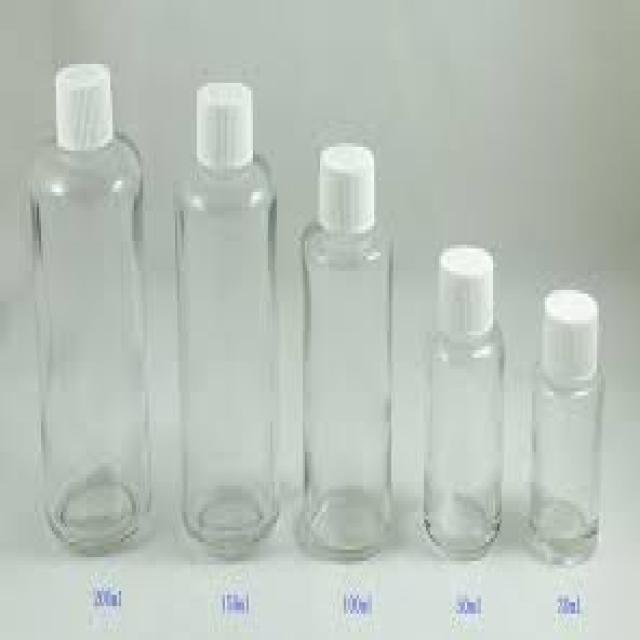glass: (28, 128, 145, 542), (171, 155, 275, 554), (298, 219, 387, 554), (426, 313, 502, 557), (530, 354, 597, 565)
plastic: (192, 79, 251, 169), (541, 286, 595, 384), (52, 60, 112, 147), (318, 140, 372, 234), (437, 249, 491, 335)
